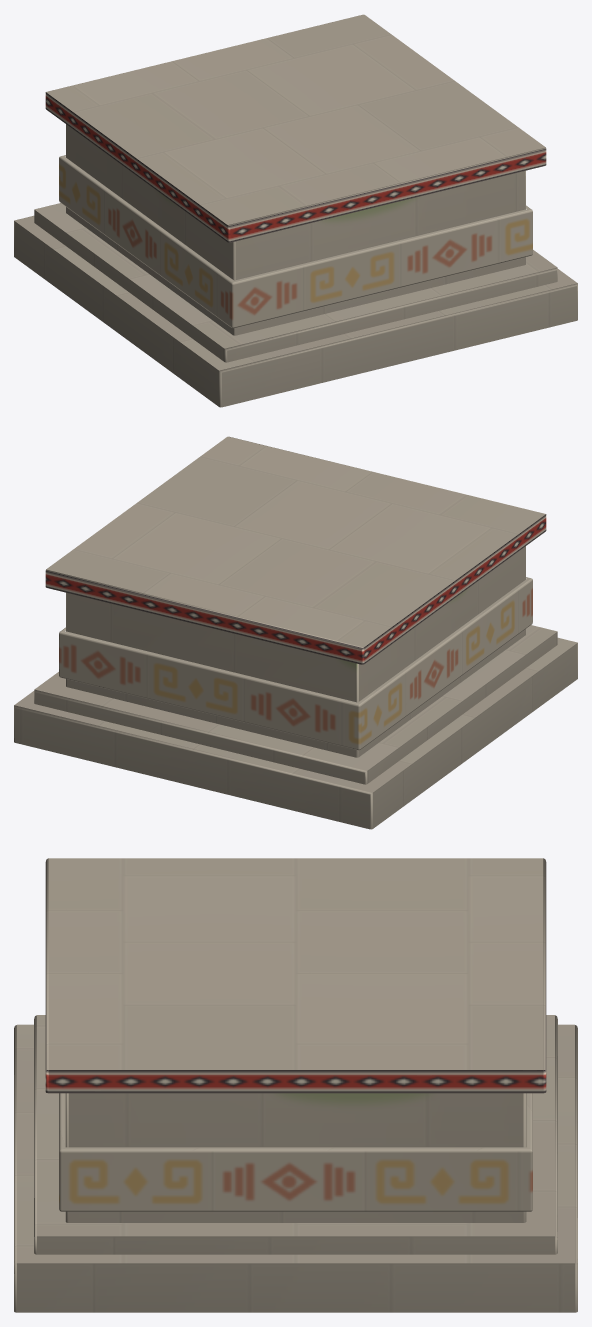
Rendered from plaza_plinth.glb.
The picture shows the model from 3 angles, top to bottom: view 1: azimuth 30°, elevation 25°; view 2: azimuth 150°, elevation 25°; view 3: azimuth 270°, elevation 25°; orthographic projection. The views are drawn at different scales.
Visible parts, largest first — view 1: plaza_plinth.001; view 2: plaza_plinth.001; view 3: plaza_plinth.001.
Part boxes in pixels (x1,y1,x2,y2): plaza_plinth.001: (14, 14, 577, 407); plaza_plinth.001: (14, 436, 577, 829); plaza_plinth.001: (14, 858, 577, 1312).
Bounding box in the file's own units: 9.8 × 4.4 × 9.8.
Materials: 1 (1 with a texture image).
